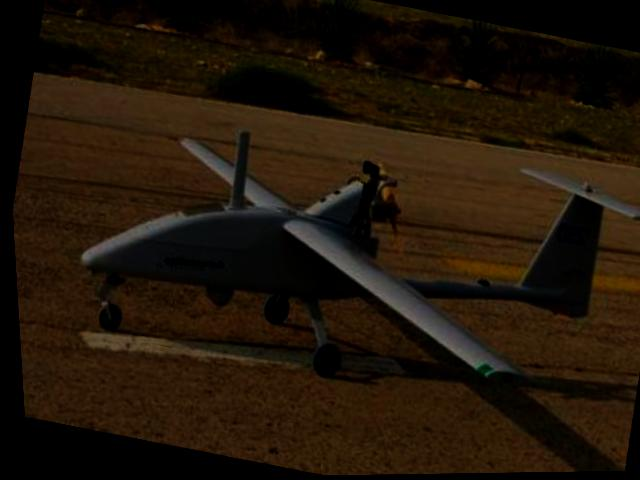uav: (53, 79, 640, 445)
